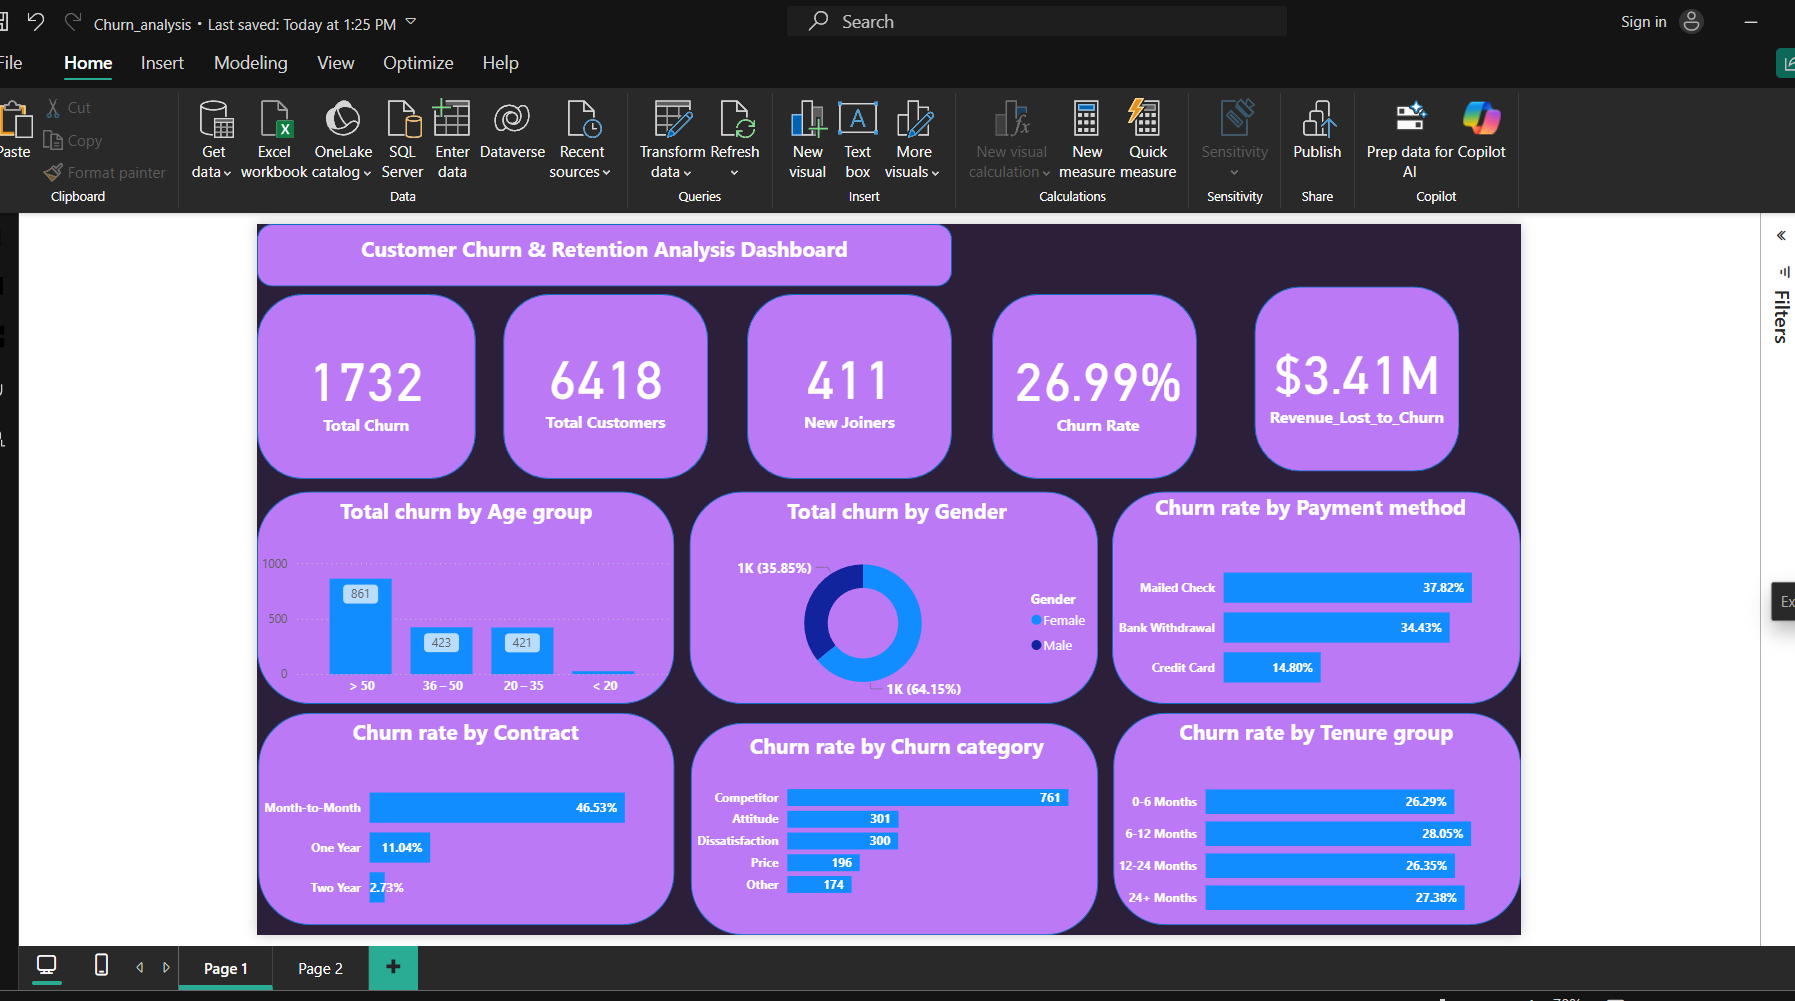

What the dashboard file says about the page in this screenshot:
{"tool":"powerbi","page":{"name":"Page 1","canvas":[1280,720],"ordinal":0},"visuals":[{"type":"card","fields":{"Values":["table_measures.Total Customers"]},"box":[9.6,0,279.9,152.3],"z":0},{"type":"card","fields":{"Values":["table_measures.New Joiners"]},"box":[278.6,0,279.9,164.7],"z":1},{"type":"card","fields":{"Values":["table_measures.Total Churn"]},"box":[580.4,0,279.9,182.5],"z":2},{"type":"card","fields":{"Values":["table_measures.Churn Rate"]},"box":[860.4,0,279.9,164.7],"z":3},{"type":"donutChart","fields":{"Category":["prod_churn.Gender"],"Y":["table_measures.Total Churn"]},"box":[9.6,182.5,279.9,279.9],"z":4},{"type":"lineStackedColumnComboChart","fields":{"Category":["Mapping_age_group.Age Group"],"Y":["table_measures.Total Customers"],"Y2":["table_measures.Total Churn"]},"box":[300.5,182.5,338.9,279.9],"z":5},{"type":"clusteredBarChart","fields":{"Y":["table_measures.Churn Rate"],"Category":["prod_churn.Payment_Method"]},"box":[675.1,182.5,279.9,279.9],"z":6},{"type":"clusteredBarChart","fields":{"Category":["prod_churn.Contract"],"Y":["table_measures.Churn Rate"]},"box":[955.1,182.5,315.6,279.9],"z":7},{"type":"clusteredBarChart","fields":{"Y":["table_measures.Total Churn"],"Category":["prod_churn.Churn_Category"]},"box":[9.6,484.4,279.9,236],"z":8},{"type":"clusteredBarChart","fields":{"Category":["prod_churn.Tenure_Group"],"Y":["table_measures.Churn Rate"]},"box":[301,484,339,236],"z":9}]}

Visuals, with their boxes on the page's 1280x720 design canvas (x1, y1, x2, y2). These are canvas units, not pixel positions in the 1795x1001 screenshot, which may show the page scaled, cropped or inside an application window:
card - table_measures.Total Customers: Rect(10, 0, 290, 152)
card - table_measures.New Joiners: Rect(279, 0, 558, 165)
card - table_measures.Total Churn: Rect(580, 0, 860, 182)
card - table_measures.Churn Rate: Rect(860, 0, 1140, 165)
donutChart - prod_churn.Gender x table_measures.Total Churn: Rect(10, 182, 290, 462)
lineStackedColumnComboChart - Mapping_age_group.Age Group x table_measures.Total Customers: Rect(300, 182, 639, 462)
clusteredBarChart - table_measures.Churn Rate x prod_churn.Payment_Method: Rect(675, 182, 955, 462)
clusteredBarChart - prod_churn.Contract x table_measures.Churn Rate: Rect(955, 182, 1271, 462)
clusteredBarChart - table_measures.Total Churn x prod_churn.Churn_Category: Rect(10, 484, 290, 720)
clusteredBarChart - prod_churn.Tenure_Group x table_measures.Churn Rate: Rect(301, 484, 640, 720)
